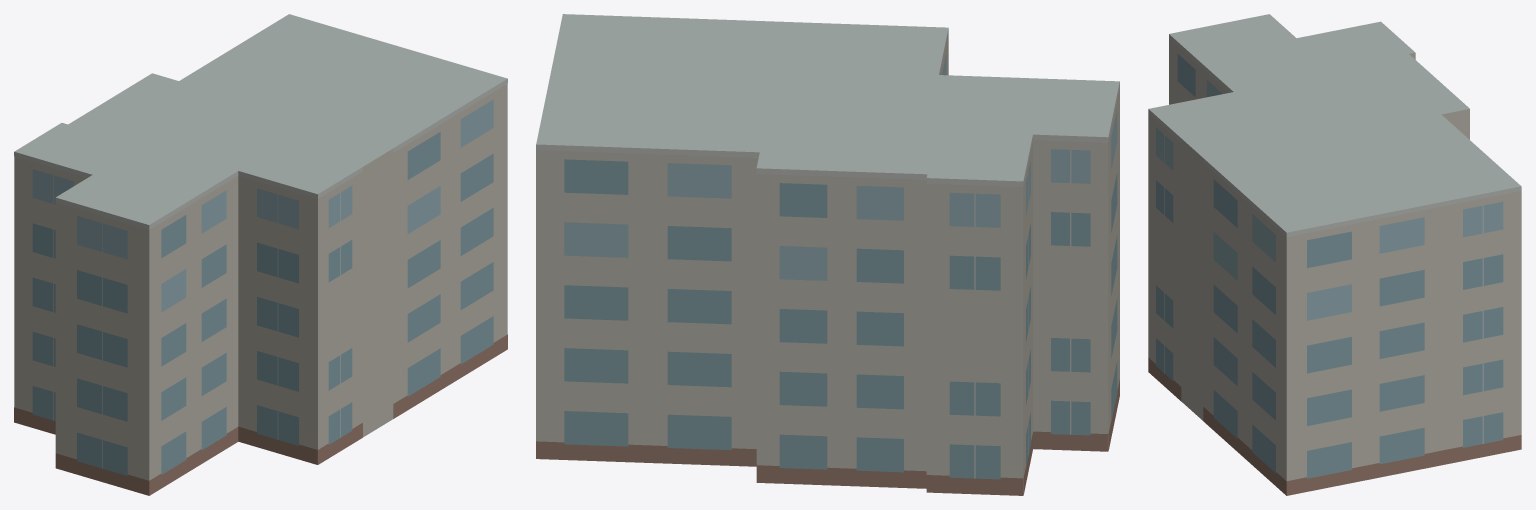
File: survey-upis-32658498.glb
3 views of the same model, side by side, from view 1: azimuth 30°, elevation 25°; view 2: azimuth 150°, elevation 25°; view 3: azimuth 270°, elevation 25° (orthographic). The views are drawn at different scales.
Parts seen in each view (by area): view 1: survey-upis-32658498.tmp; view 2: survey-upis-32658498.tmp; view 3: survey-upis-32658498.tmp.
Boxes of the visible parts, left/top/right/bottom form: survey-upis-32658498.tmp: left=14, top=14, right=507, bottom=495; survey-upis-32658498.tmp: left=536, top=14, right=1119, bottom=495; survey-upis-32658498.tmp: left=1148, top=14, right=1521, bottom=495.
Size of the model in its own units: 24.78 by 13.9 by 17.87.
